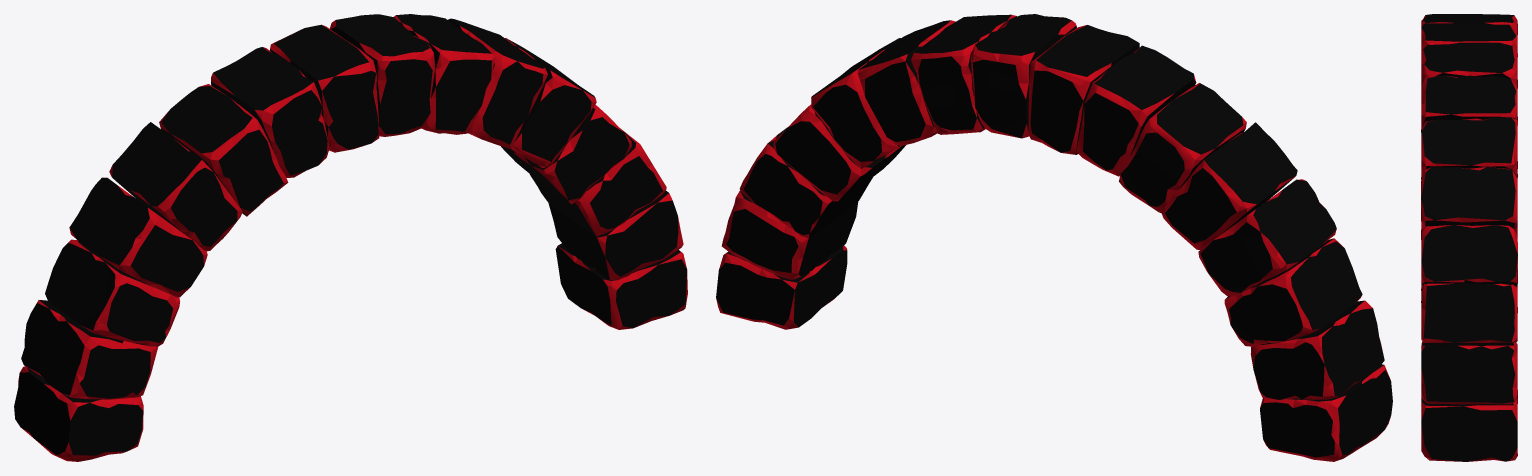
File: SM_Arch.fbx
3 renders of one model, left to right at view 1: azimuth 30°, elevation 25°; view 2: azimuth 150°, elevation 25°; view 3: azimuth 270°, elevation 25°, orthographic. The views are drawn at different scales.
Parts seen in each view (by area): view 1: SM_Arch; view 2: SM_Arch; view 3: SM_Arch.
Boxes of the visible parts, box(x1,y1,x2,y2) form: SM_Arch: box(14, 14, 687, 461); SM_Arch: box(716, 14, 1392, 461); SM_Arch: box(1421, 14, 1517, 461).
Bounding box in the file's own units: 457 × 70.32 × 232.
